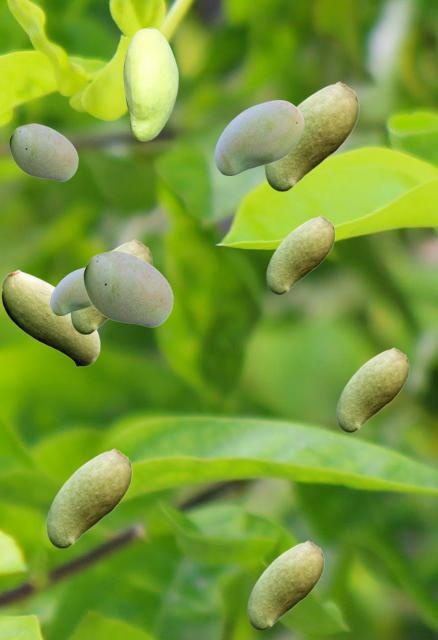green_mango: (264, 81, 358, 190), (1, 269, 99, 366), (46, 448, 131, 547), (70, 239, 151, 333), (247, 540, 323, 629), (83, 250, 172, 326), (214, 100, 303, 174), (123, 27, 177, 140), (336, 347, 408, 431), (266, 215, 334, 293), (9, 123, 77, 180), (50, 267, 92, 314)
